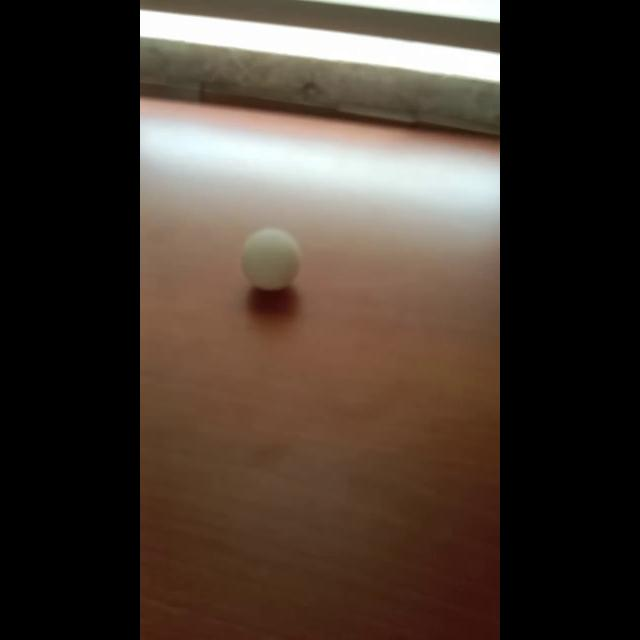white ball: (240, 227, 300, 291)
